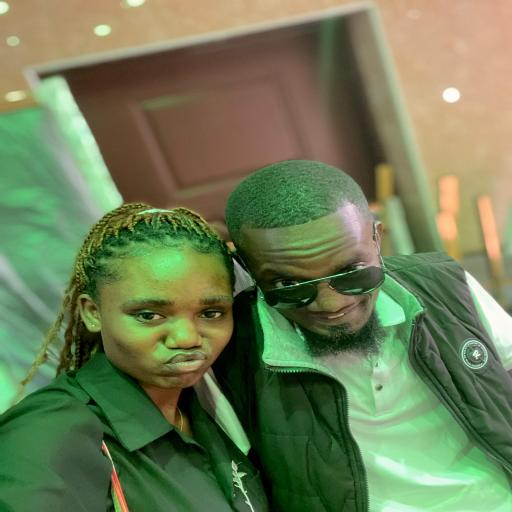MATTHIEU: (231, 169, 415, 346)
